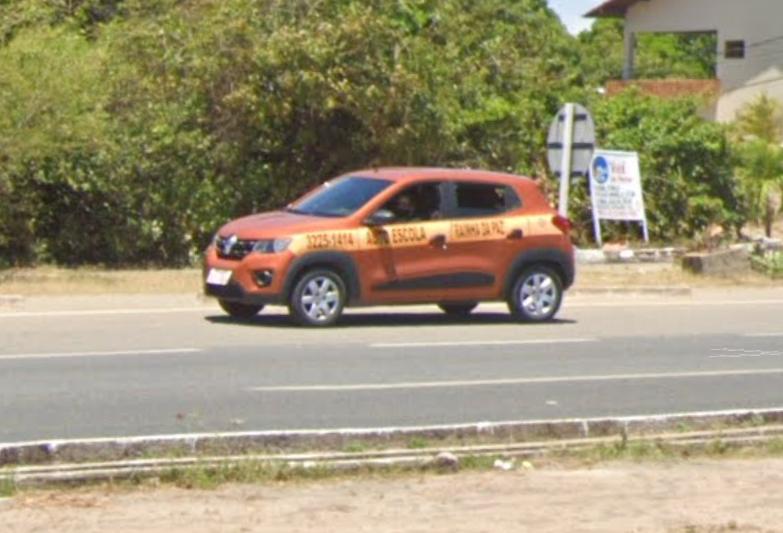car: (203, 164, 580, 329)
